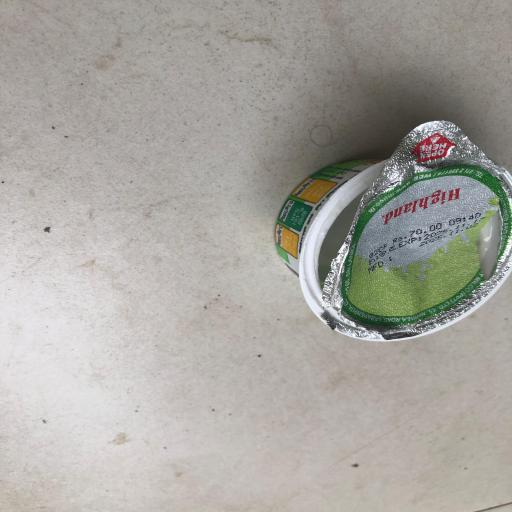waste: (259, 103, 512, 354)
